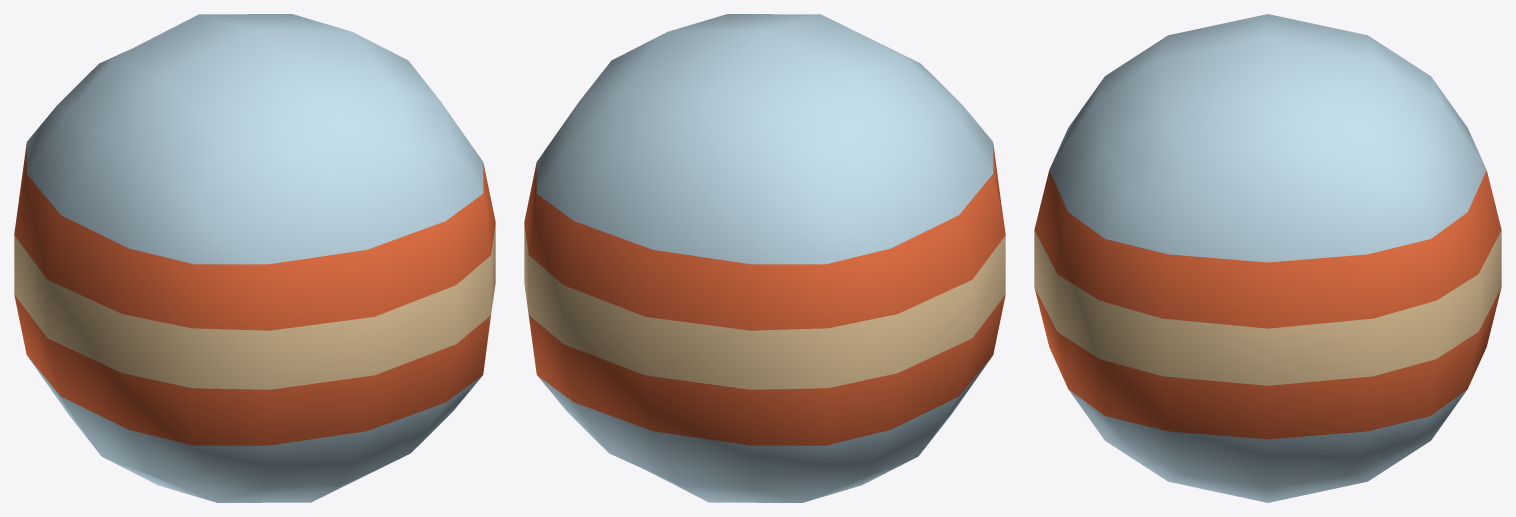
The model's file is SM_Planet_01.fbx.
3 renders of one model, left to right at view 1: azimuth 30°, elevation 25°; view 2: azimuth 150°, elevation 25°; view 3: azimuth 270°, elevation 25°, orthographic. The views are drawn at different scales.
Parts seen in each view (by area): view 1: SM_Planet_01; view 2: SM_Planet_01; view 3: SM_Planet_01.
Part boxes in pixels (x1,y1,x2,y2): SM_Planet_01: (14,14,495,502); SM_Planet_01: (524,14,1005,502); SM_Planet_01: (1034,14,1501,502).
Bounding box in the file's own units: 98.01 × 103 × 98.01.
